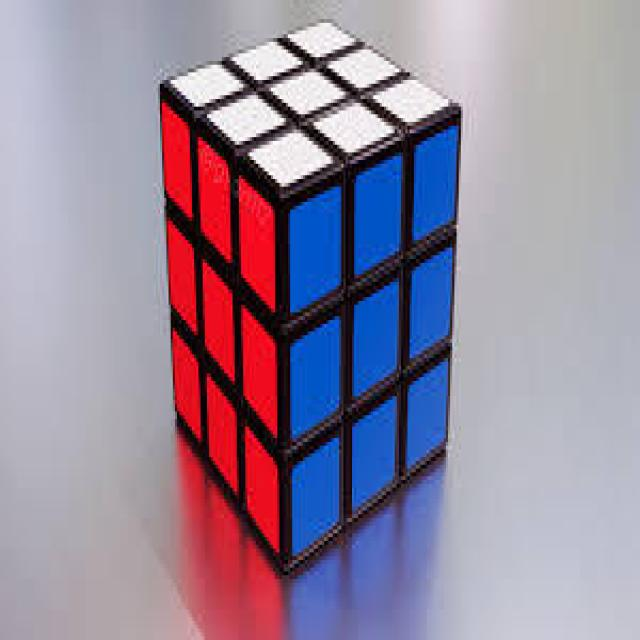Cubo-Resuelto: (162, 23, 459, 568)
